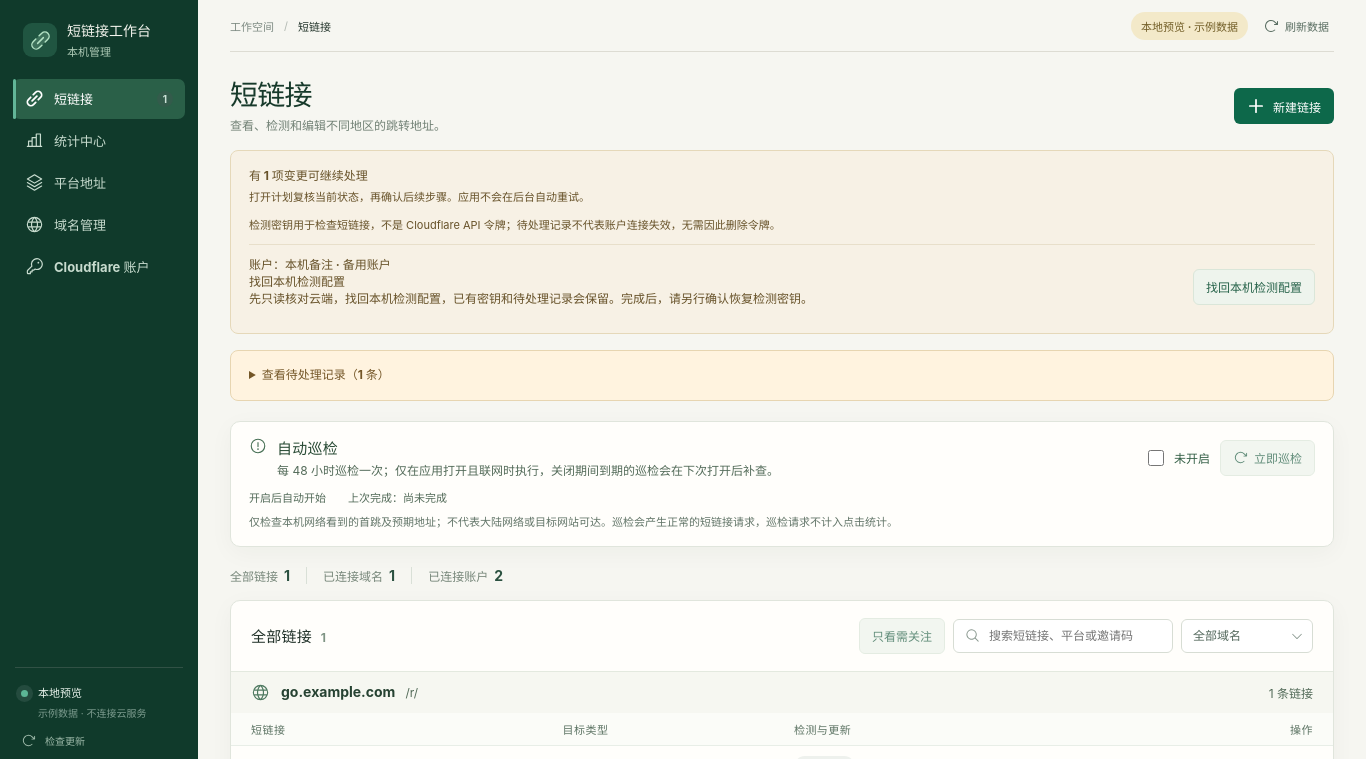
Scenario: success offers a separate key-recovery plan without automatically applying or preparing it
Click the button "找回本机检测配置". click: x=1254, y=287
box: [1193,269,1315,305]
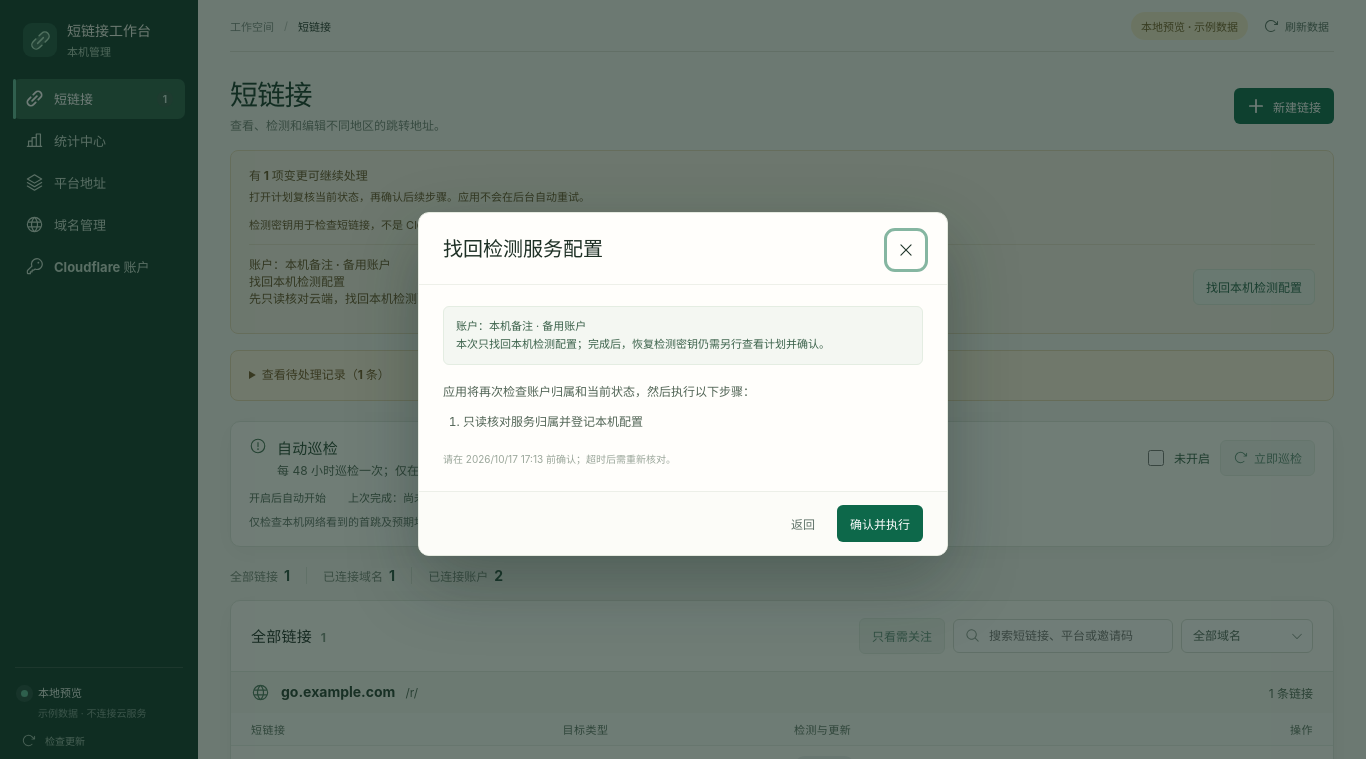
Click the button "确认并执行". click: x=880, y=524
box: [837,505,923,542]
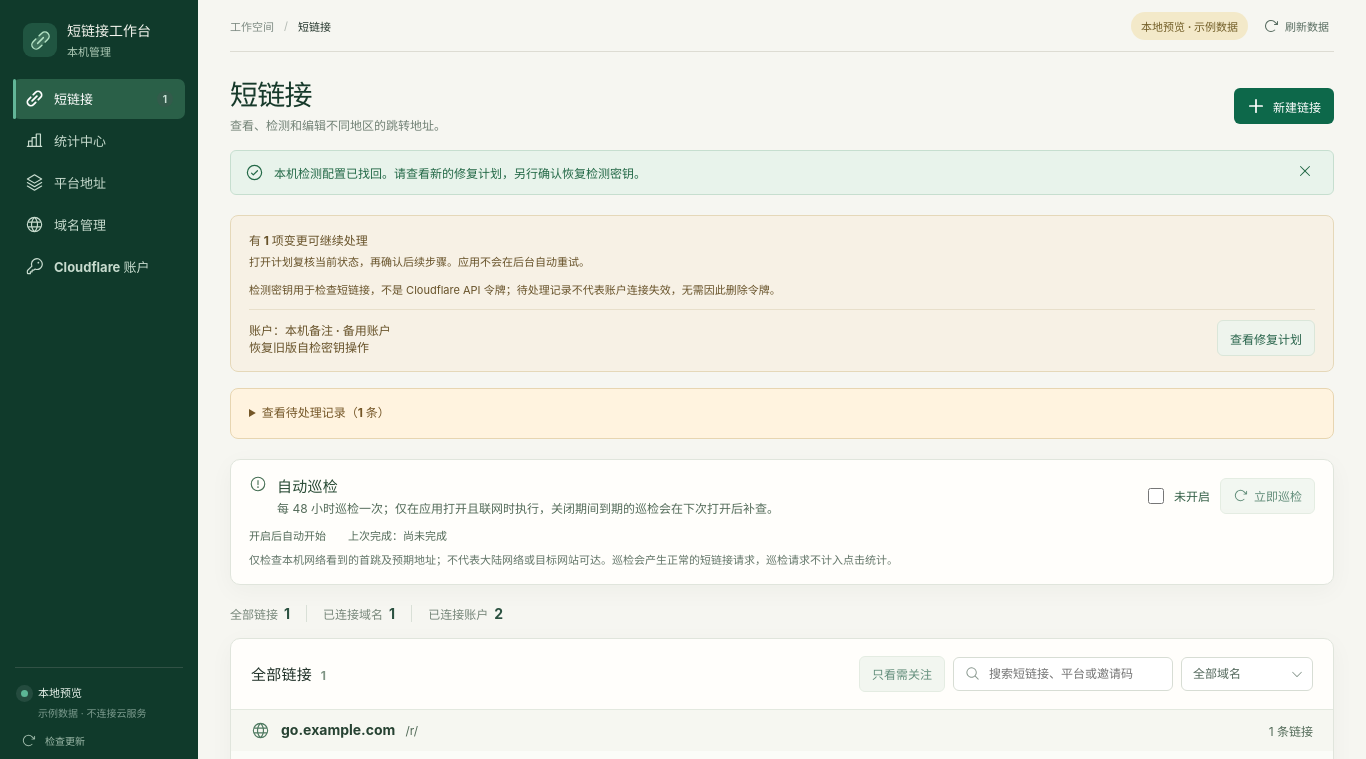
Check: the text "本机检测配置已找回。请查看新的修复计划，另行确认恢复检测密钥。" is shown, box [274,166,646,181]
Click the button "查看修复计划". click: x=1266, y=338
box: [1217,320,1315,356]
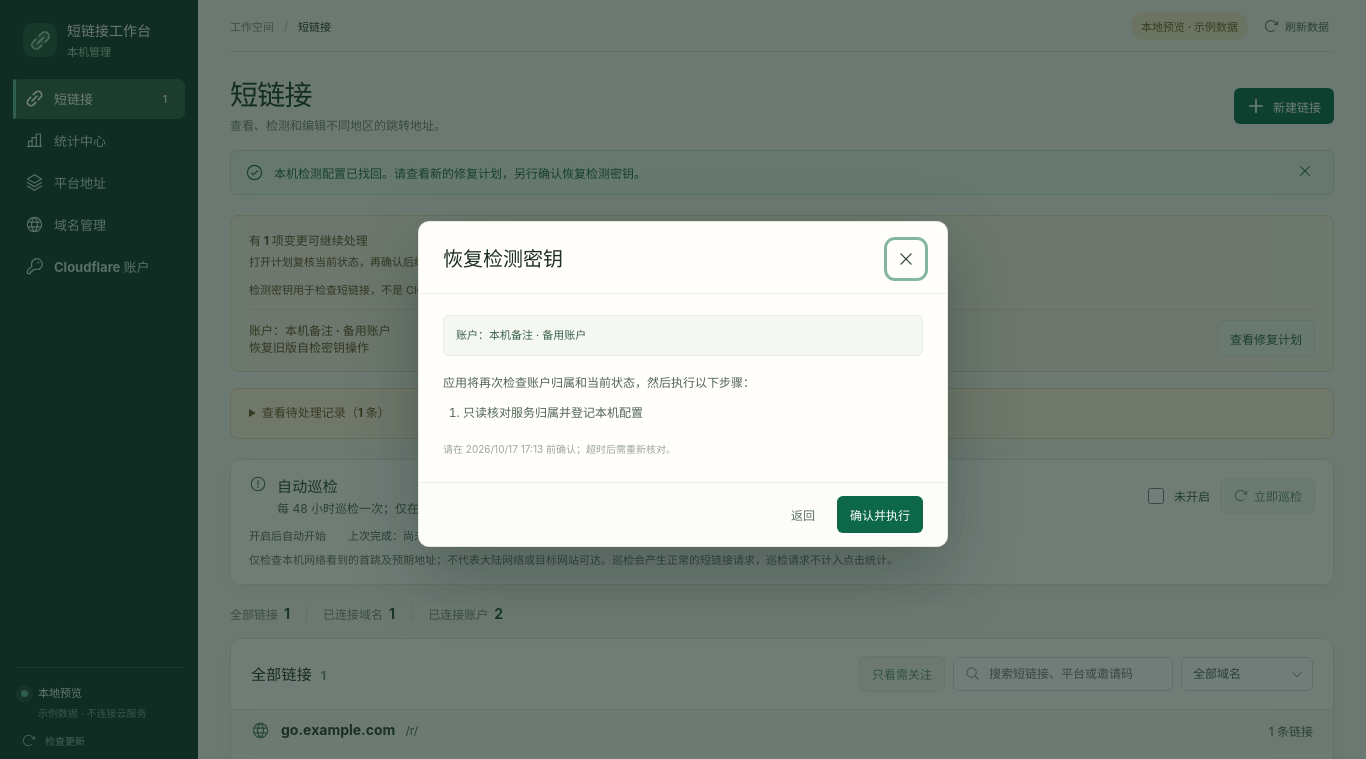
Check: the dialog "恢复检测密钥" is shown, box [418,221,948,547]
